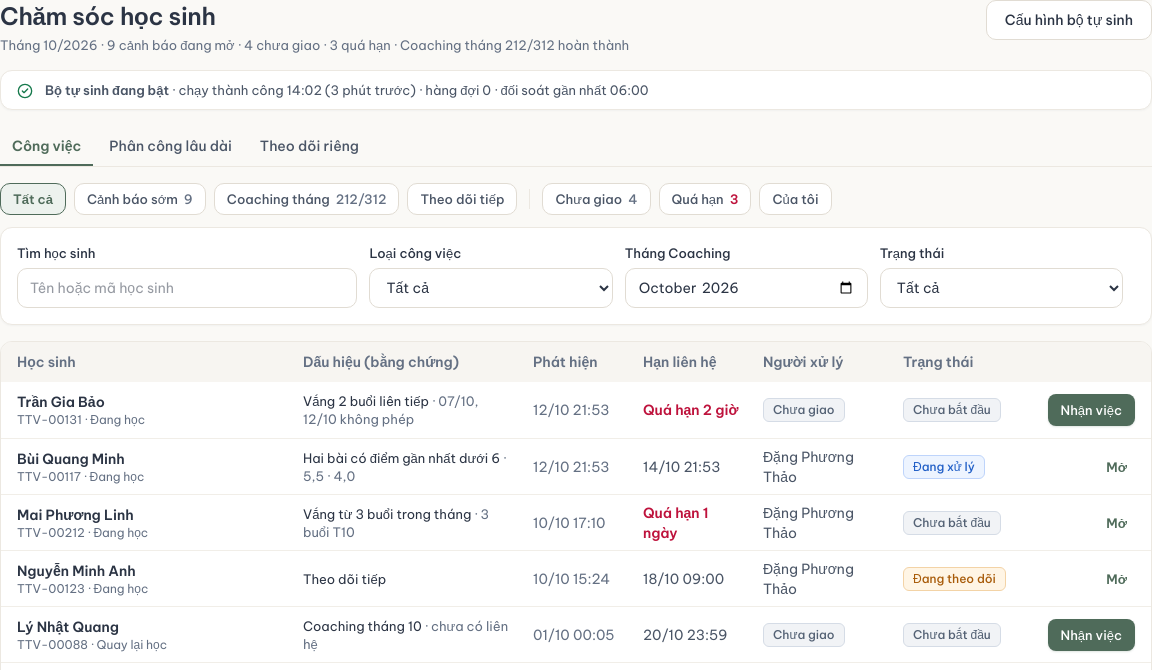
it: /dev/student-care preview › claims and configures through the stub only
Expected: the heading "Chăm sóc học sinh" is shown, [0,0,216,32]
Click the button with aria-label "Nhận việc · Trần Gia Bảo".
click(1091, 410)  # box [1048,394,1135,426]
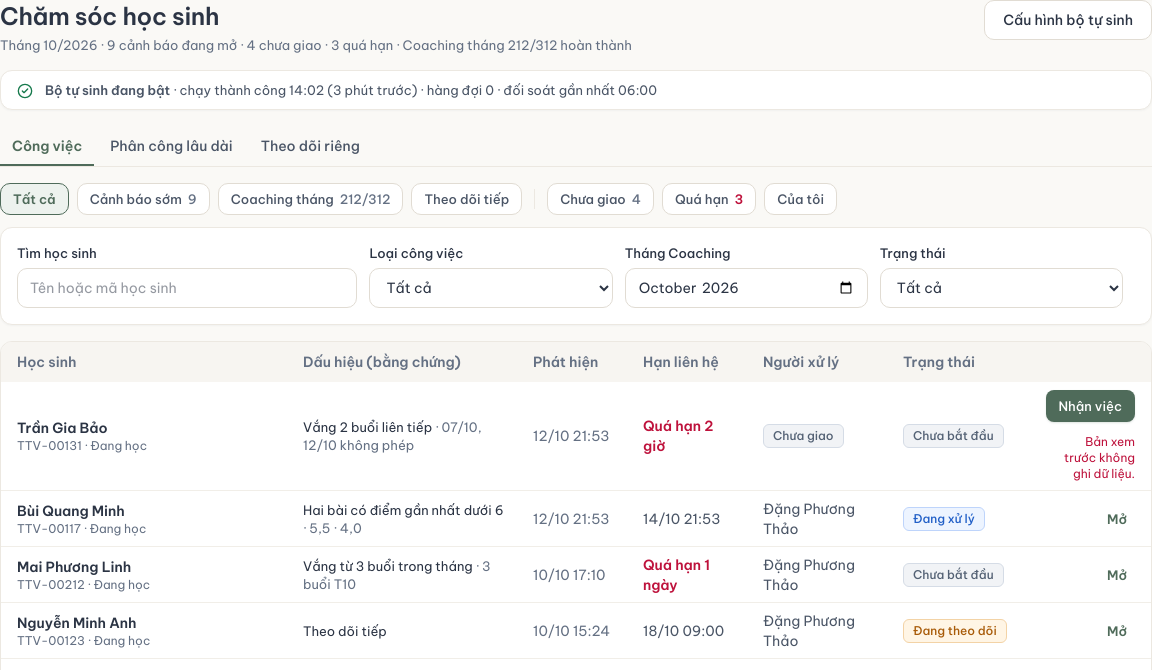
Result: the text "Bản xem trước không ghi dữ liệu." is shown at [1053,434,1135,482]
Click the button "Cấu hình bộ tự sinh".
click(1068, 20)  # box [984,0,1151,40]
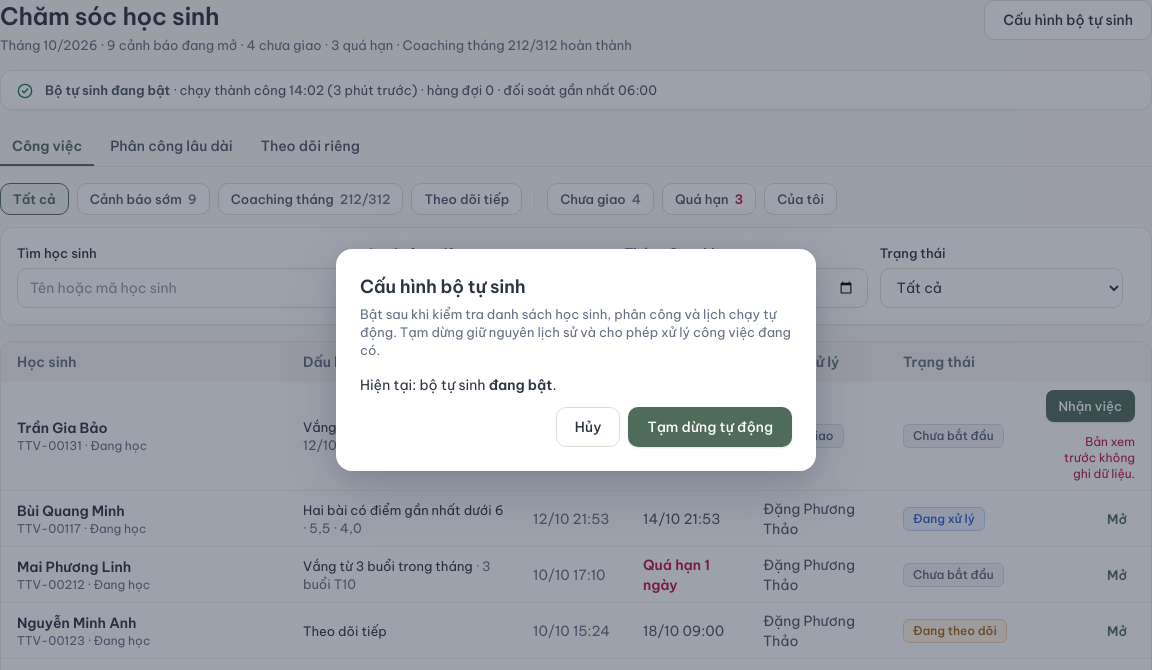
Click the button "Tạm dừng tự động".
click(710, 427)  # box [628,407,792,447]
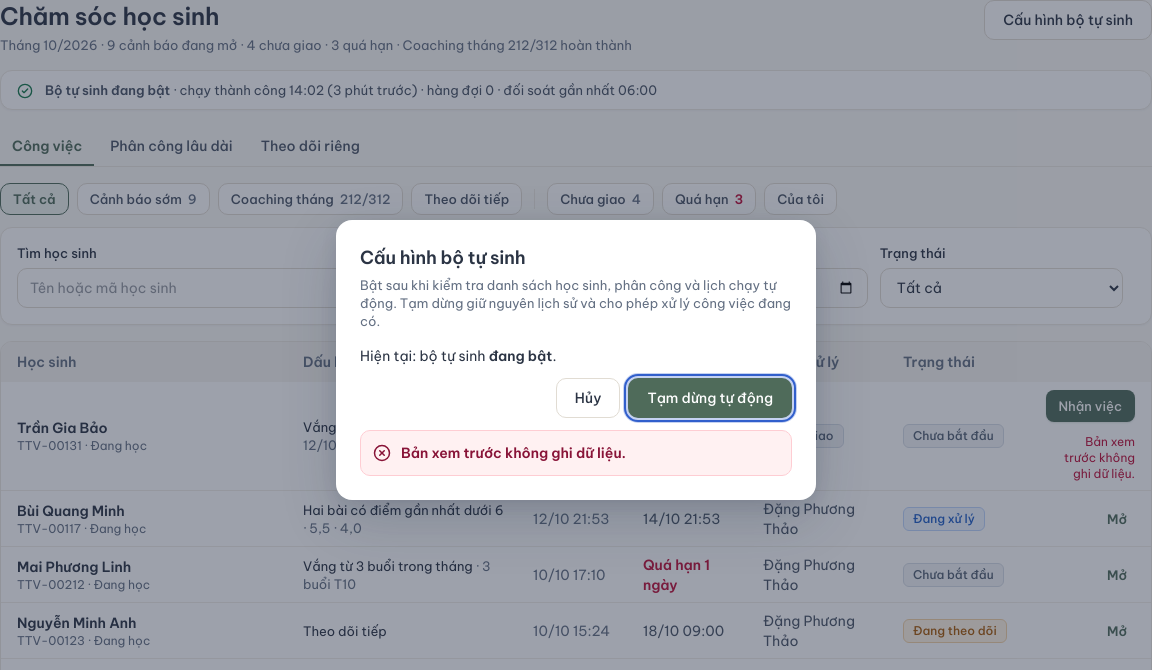
Result: the text "Bản xem trước không ghi dữ liệu." is shown at [401,444,626,462]
